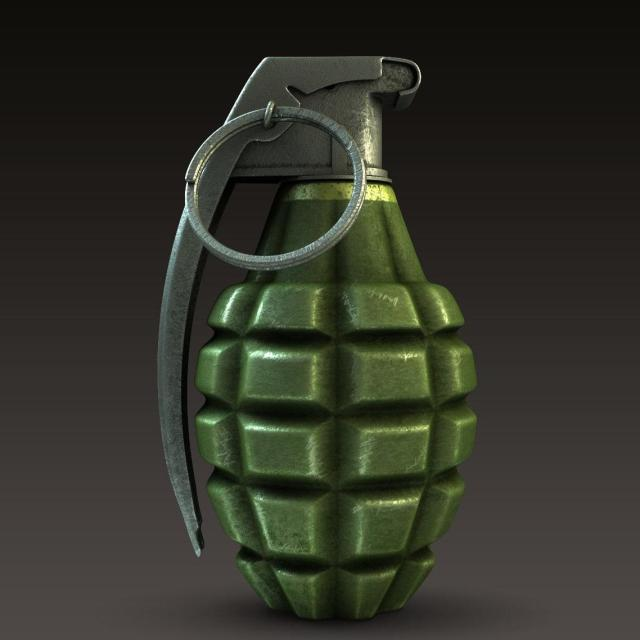grenade: (160, 55, 478, 623)
